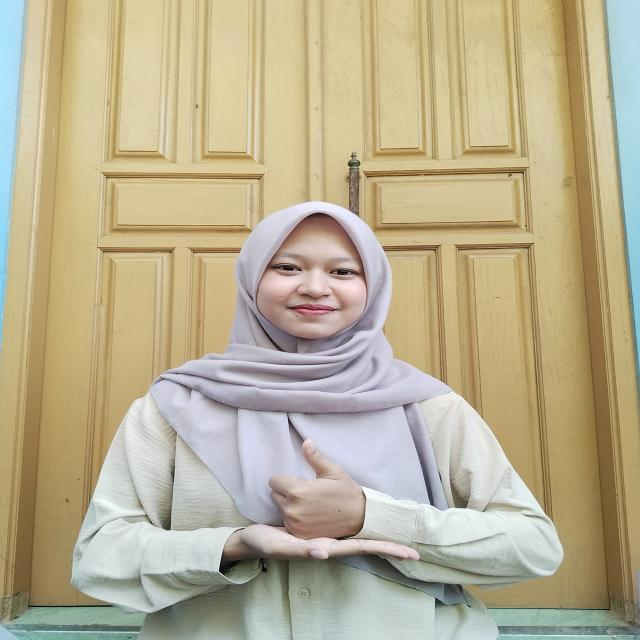cantik: (186, 436, 446, 581)
